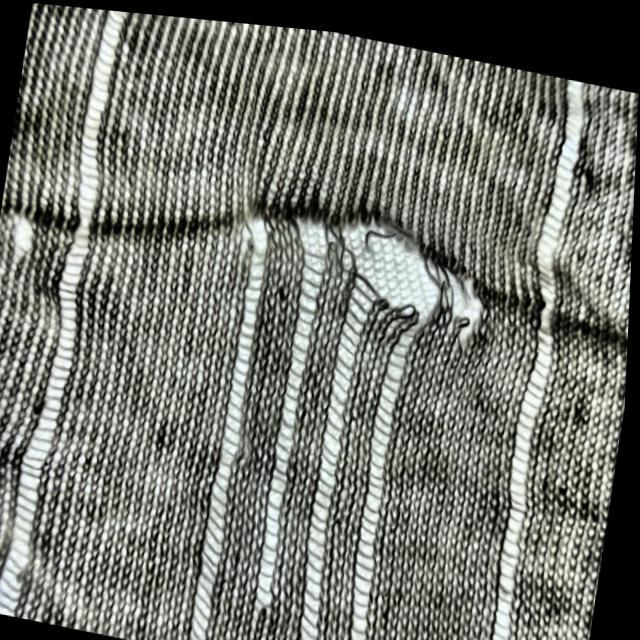Hole: (443, 264, 499, 346), (3, 208, 43, 270)
Stitch: (0, 1, 144, 627), (473, 62, 607, 640), (182, 181, 288, 640), (332, 236, 452, 640), (290, 193, 397, 640), (245, 180, 348, 614)
